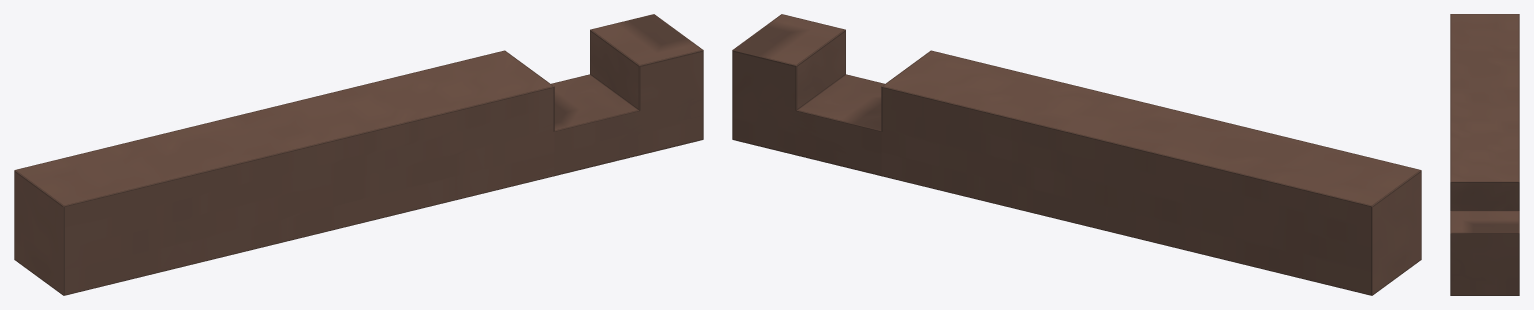
3 renders of one model, left to right at view 1: azimuth 30°, elevation 25°; view 2: azimuth 150°, elevation 25°; view 3: azimuth 270°, elevation 25°, orthographic. The views are drawn at different scales.
Parts seen in each view (by area): view 1: part-a; view 2: part-a; view 3: part-a.
Boxes of the visible parts, bbox=[...] form: part-a: bbox=[14, 14, 703, 295]; part-a: bbox=[732, 14, 1421, 295]; part-a: bbox=[1450, 14, 1519, 295].
Bounding box in the file's own units: 0.9008 × 0.1208 × 0.1208.
